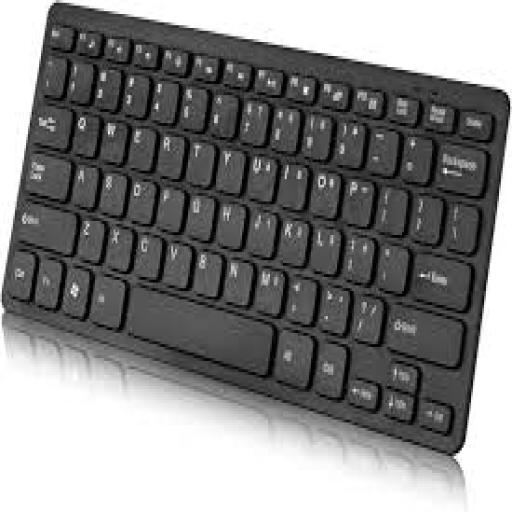keyboard: (2, 3, 508, 450)
